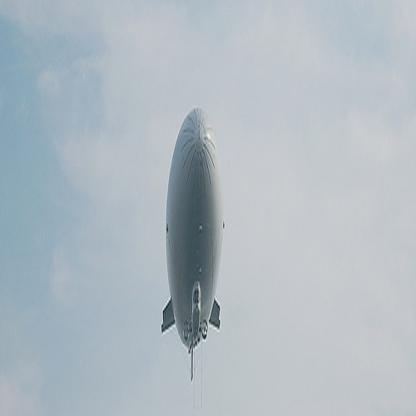Airship: (154, 99, 232, 388)
